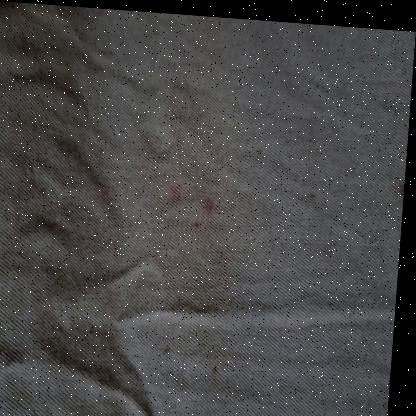spot: (170, 172, 188, 204), (255, 140, 268, 161), (163, 339, 176, 359), (396, 172, 407, 195), (206, 192, 218, 212), (195, 212, 204, 232), (216, 357, 226, 375), (9, 1, 18, 18)
